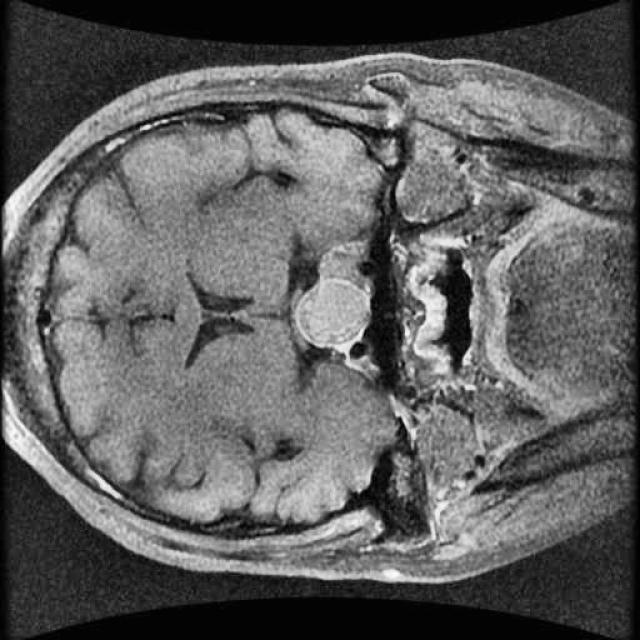Tumor: (291, 264, 385, 366)
